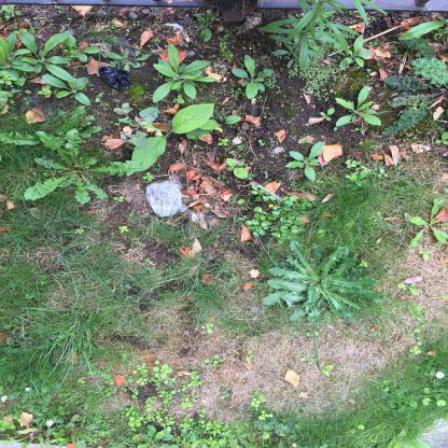Plastic bag - wrapper: (148, 176, 191, 218), (100, 62, 133, 91), (182, 210, 217, 228)
